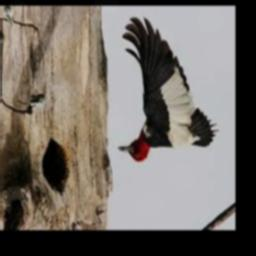Woodpecker: (118, 17, 219, 161)
